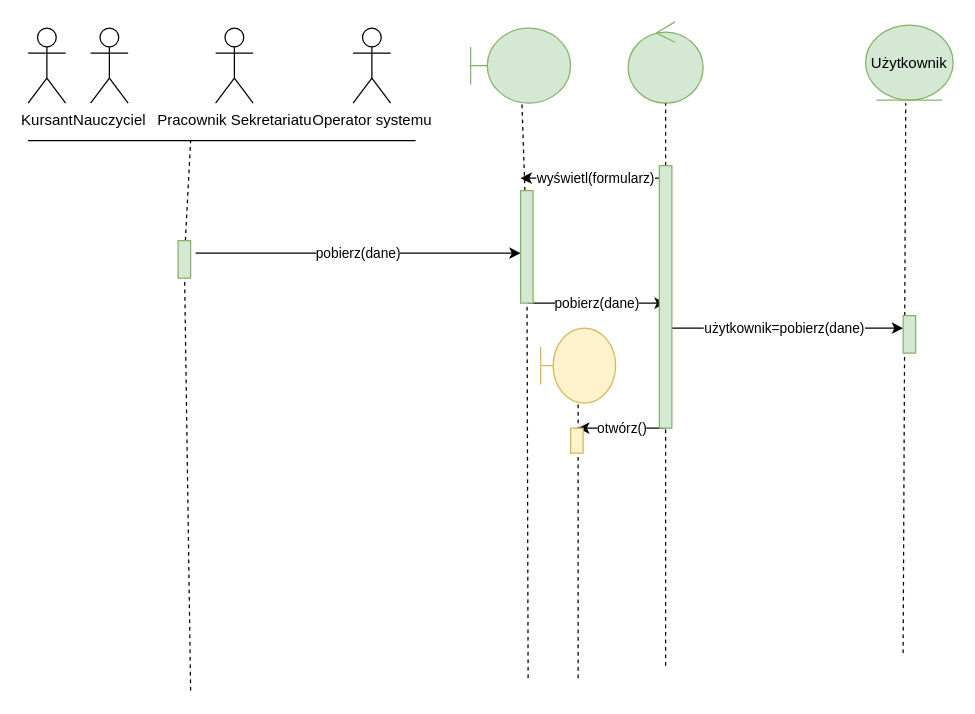
Image size: 975x714. Some labels were removed from this diagram. The centre of each missing label's shape, as x and y in pixels:
0.Interfejs logowania: point (520, 65)
C0 kontroler logowania: point (665, 62)
Interfejs użytkownika: point (577, 365)
